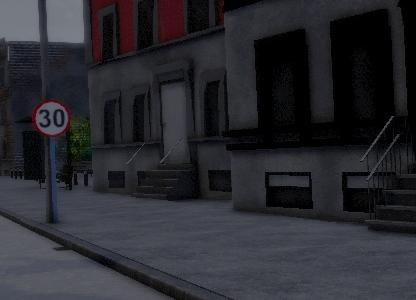Speed_30: (30, 97, 73, 140)
